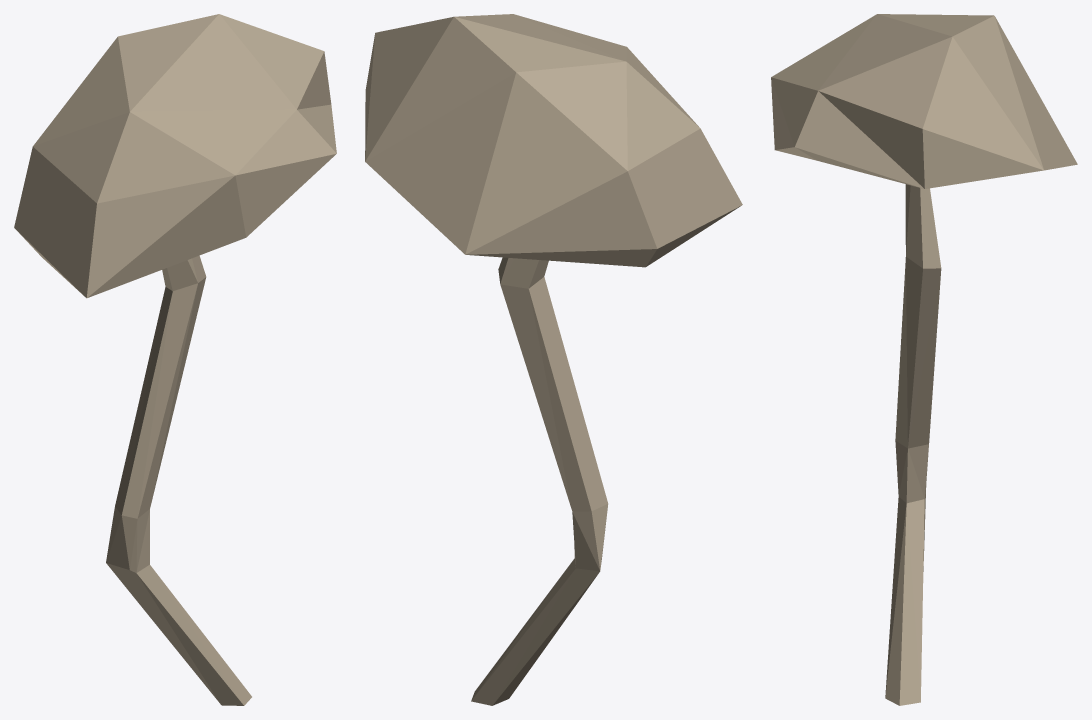
Rendered from SM_Mushroom_Brown_01.fbx.
3 renders of one model, left to right at view 1: azimuth 30°, elevation 25°; view 2: azimuth 150°, elevation 25°; view 3: azimuth 270°, elevation 25°, orthographic. The views are drawn at different scales.
Visible parts, largest first — view 1: SM_Mushroom_Brown_01; view 2: SM_Mushroom_Brown_01; view 3: SM_Mushroom_Brown_01.
Boxes of the visible parts, box(x1,y1,x2,y2) form: SM_Mushroom_Brown_01: box(14, 14, 336, 705); SM_Mushroom_Brown_01: box(365, 14, 742, 705); SM_Mushroom_Brown_01: box(771, 14, 1077, 705).
Size of the model in its own units: 27.08 by 56.91 by 23.77.
